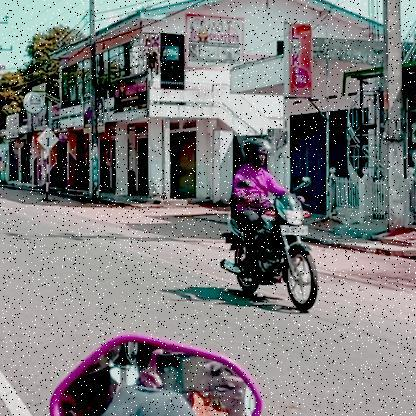motorcycle: (218, 192, 322, 314)
